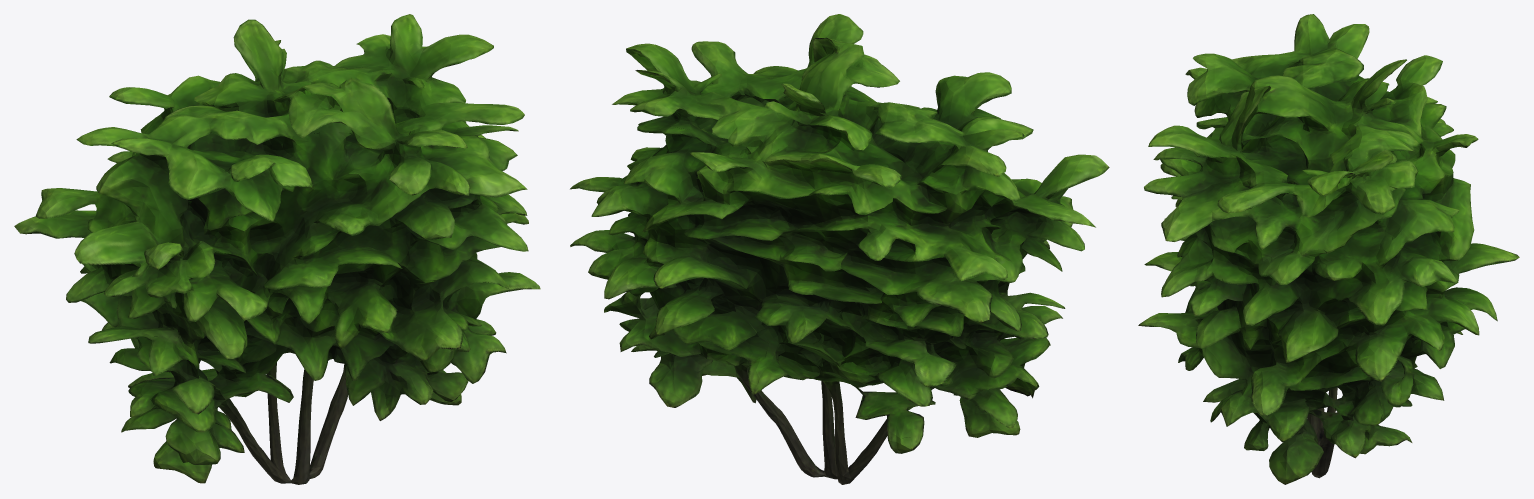
File: bush_3.glb
3 views of the same model, side by side, from view 1: azimuth 30°, elevation 25°; view 2: azimuth 150°, elevation 25°; view 3: azimuth 270°, elevation 25° (orthographic). The views are drawn at different scales.
Visible parts, largest first — view 1: world; view 2: world; view 3: world.
Part boxes in pixels (x1,y1,x2,y2): world: [14, 14, 540, 484]; world: [570, 14, 1109, 484]; world: [1138, 14, 1519, 484].
Size of the model in its own units: 0.9945 by 0.8697 by 0.7366.
Materials: 1 (1 with a texture image).
